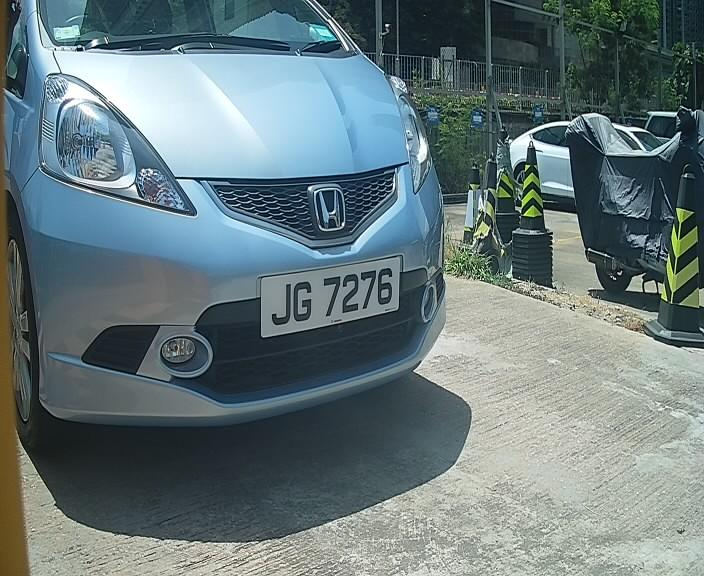License Plate: (258, 253, 403, 340)
